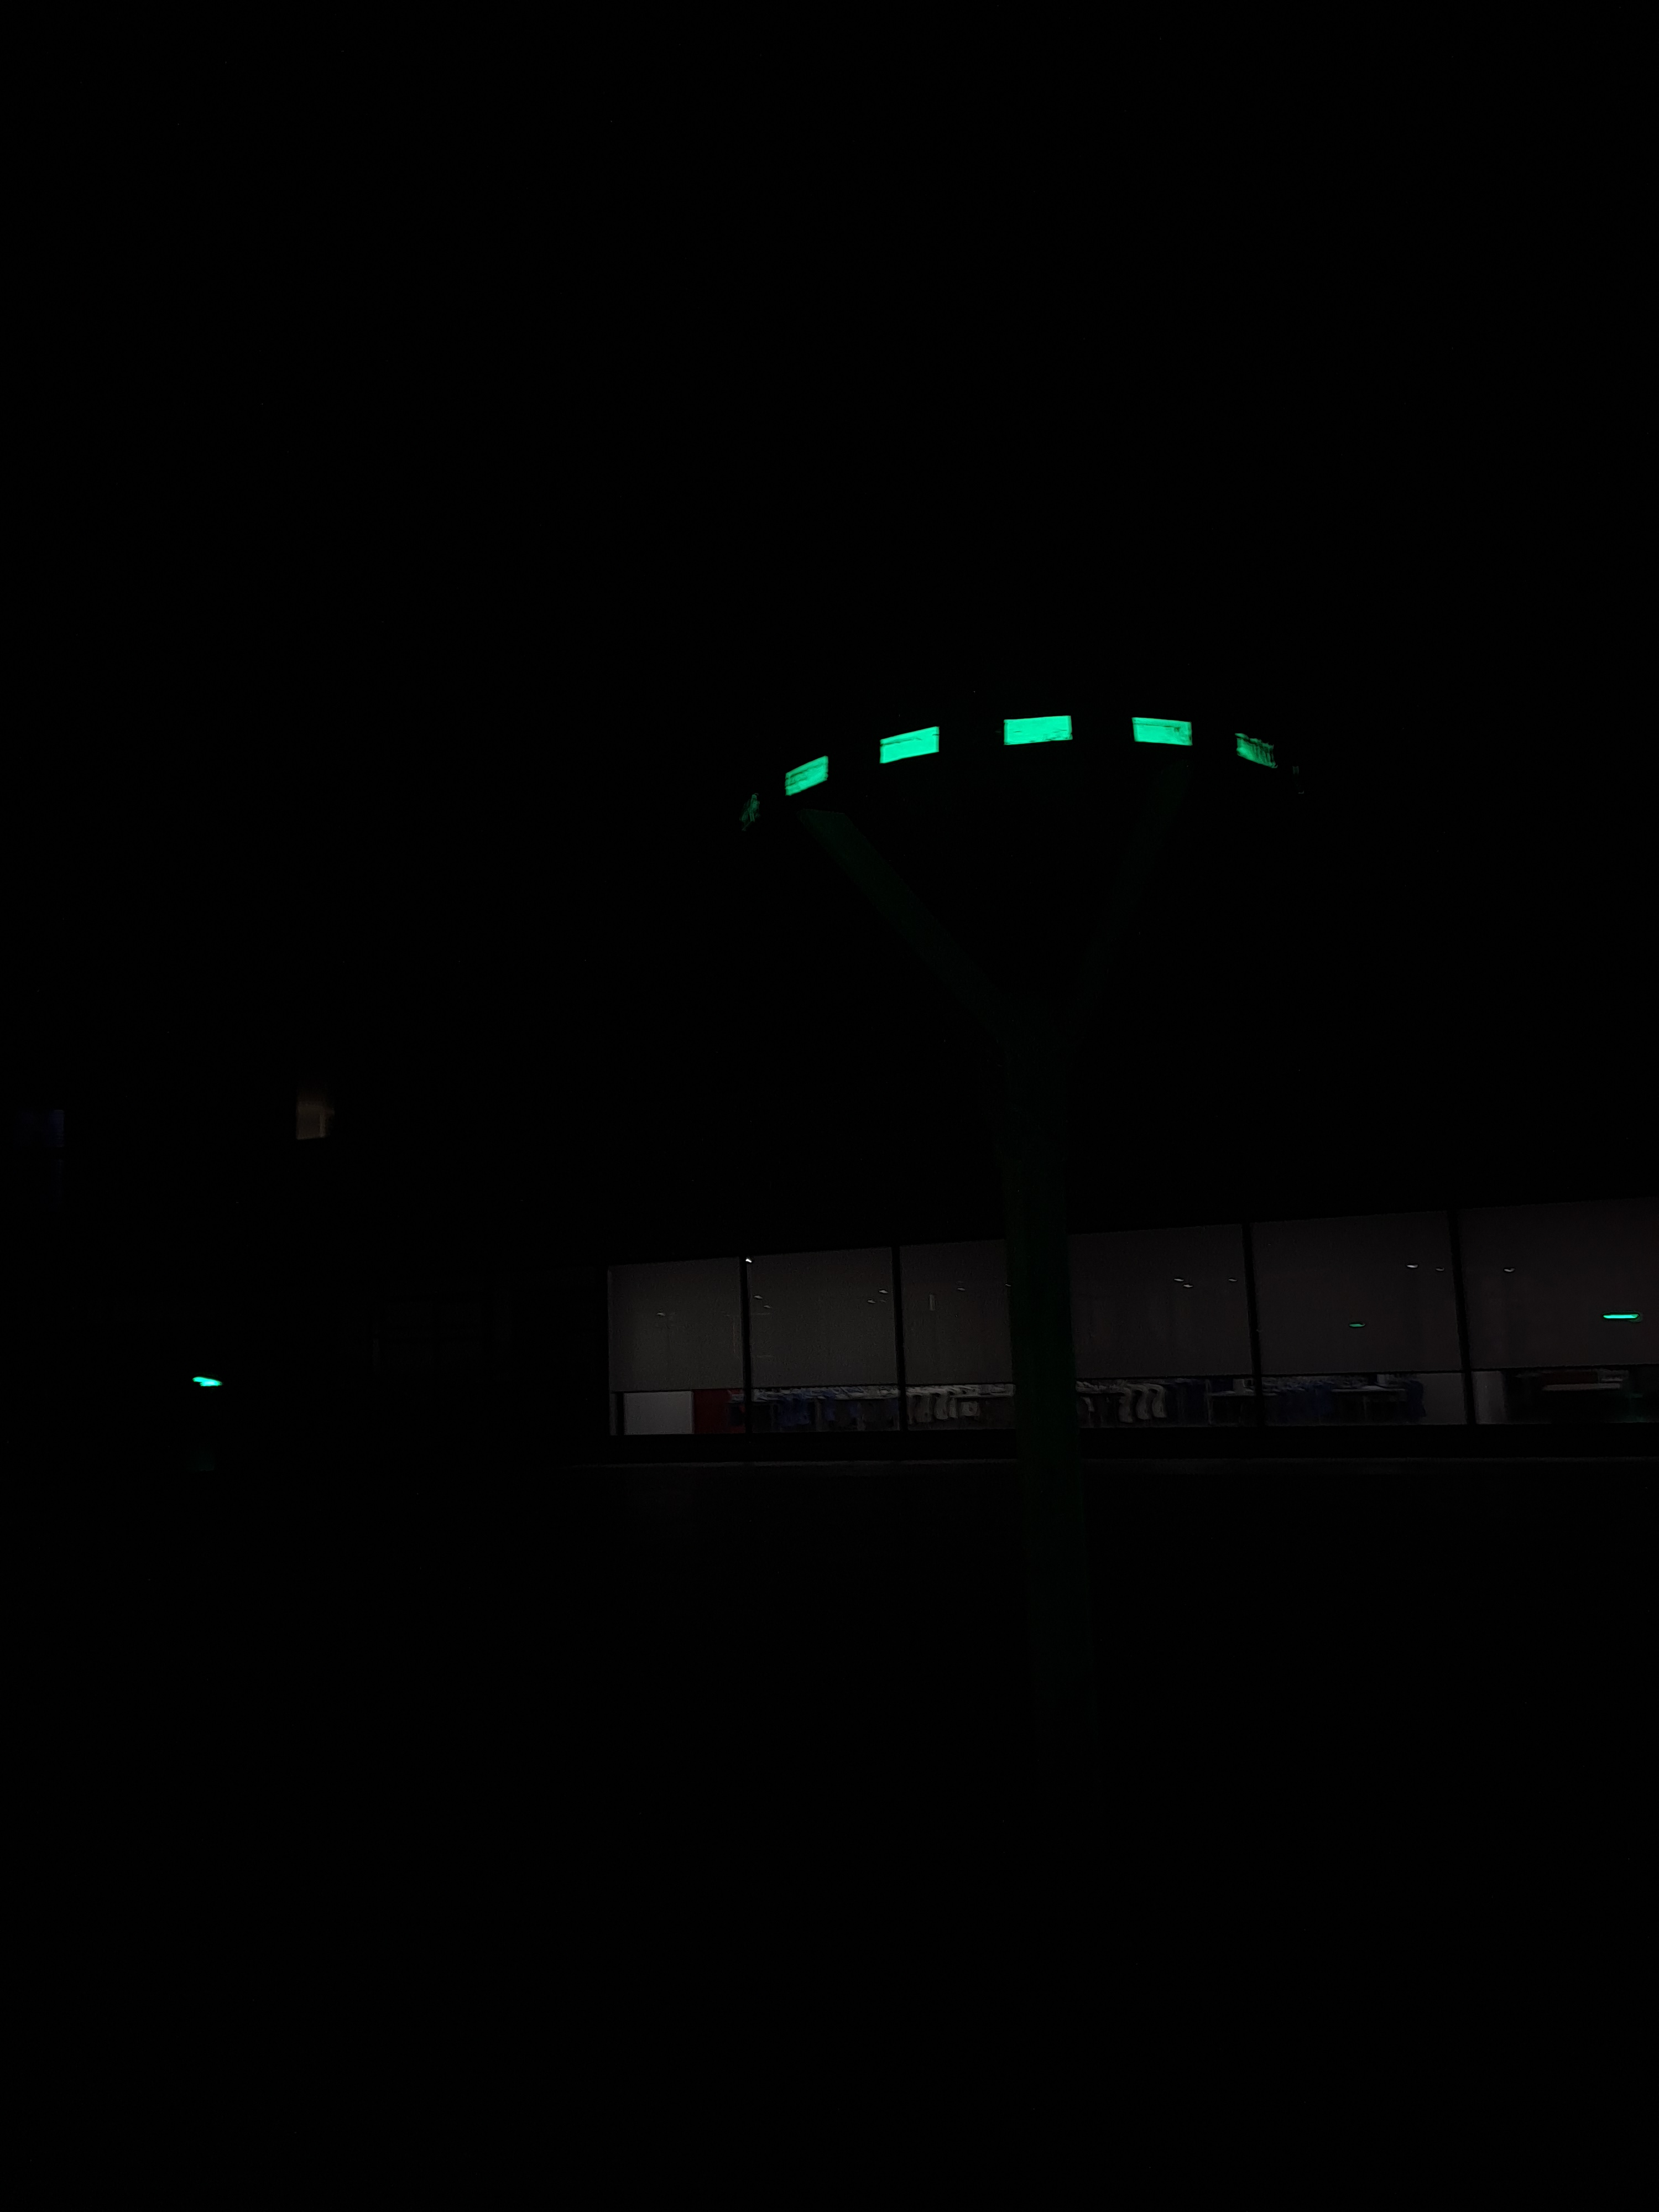hoop: (770, 714, 1286, 799)
